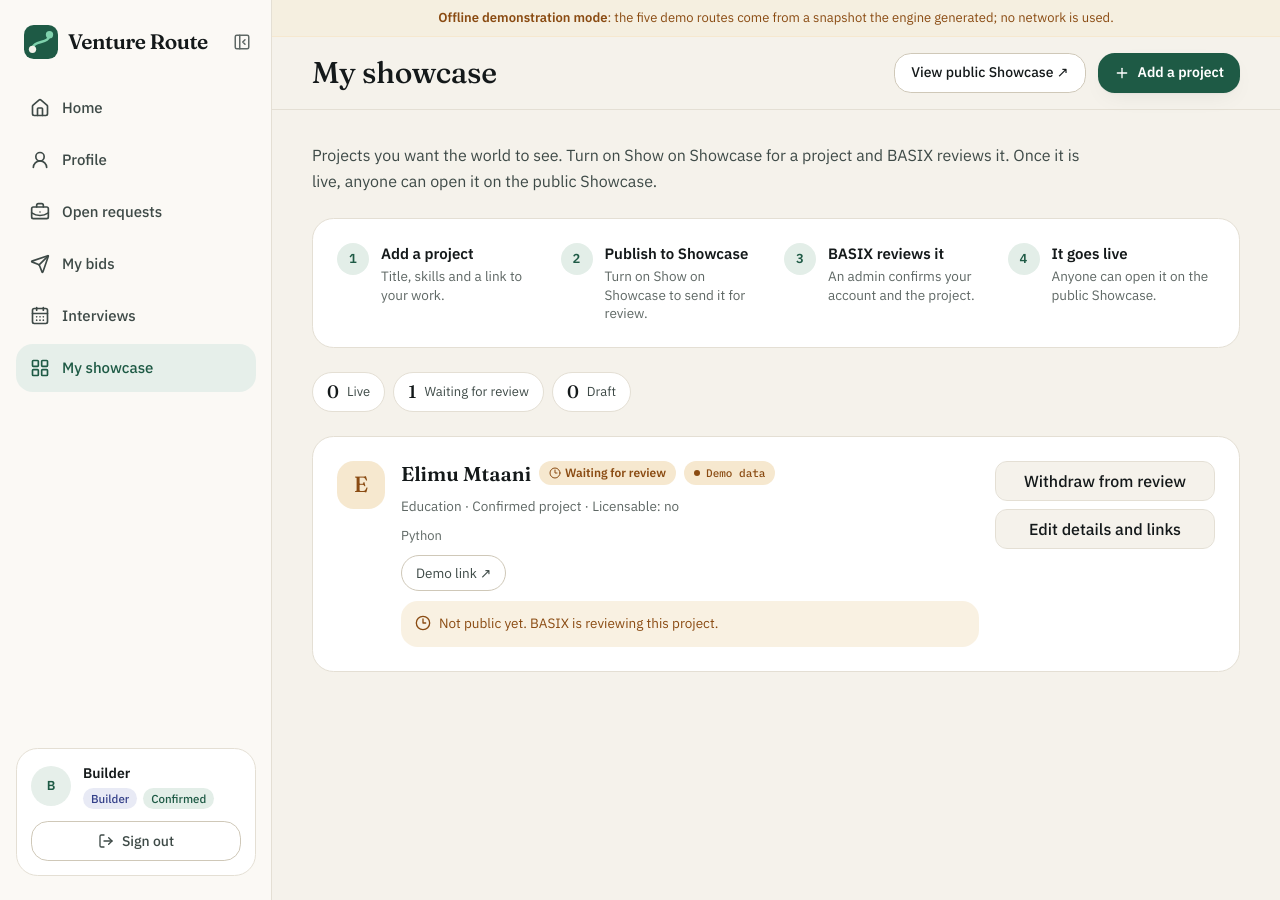
/my-showcase › withdraws with showcased false and keeps the saved links
Click the button "Withdraw from review" at (1105,481), box [995, 461, 1215, 501]
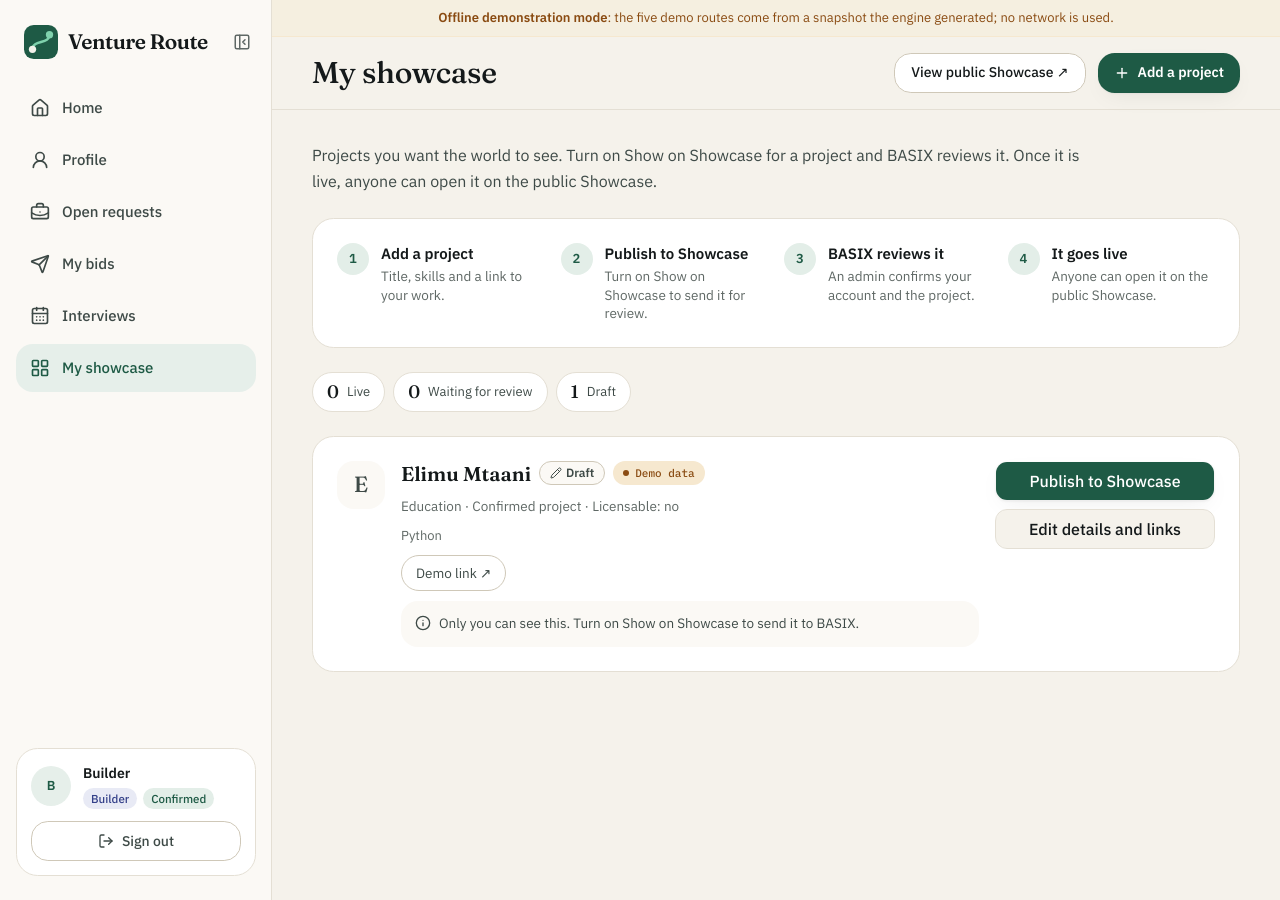
Result: the text "Draft" is shown at [539, 461, 605, 485]
